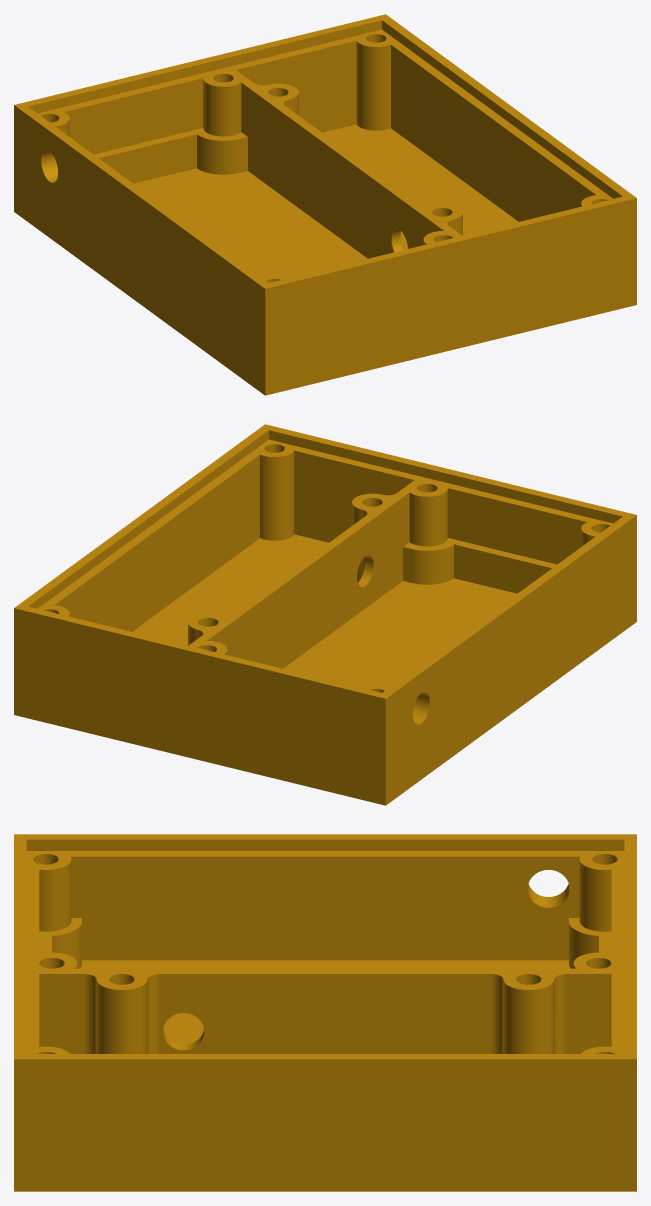
File: Electronics Case.obj
3 renders of one model, top to bottom at view 1: azimuth 30°, elevation 25°; view 2: azimuth 150°, elevation 25°; view 3: azimuth 270°, elevation 25°, orthographic. The views are drawn at different scales.
Visible parts, largest first — view 1: Body1; view 2: Body1; view 3: Body1.
Part boxes in pixels (x1,y1,x2,y2): Body1: [14, 14, 636, 395]; Body1: [14, 424, 636, 805]; Body1: [14, 834, 636, 1191].
Bounding box in the file's own units: 83.75 × 23 × 98.
